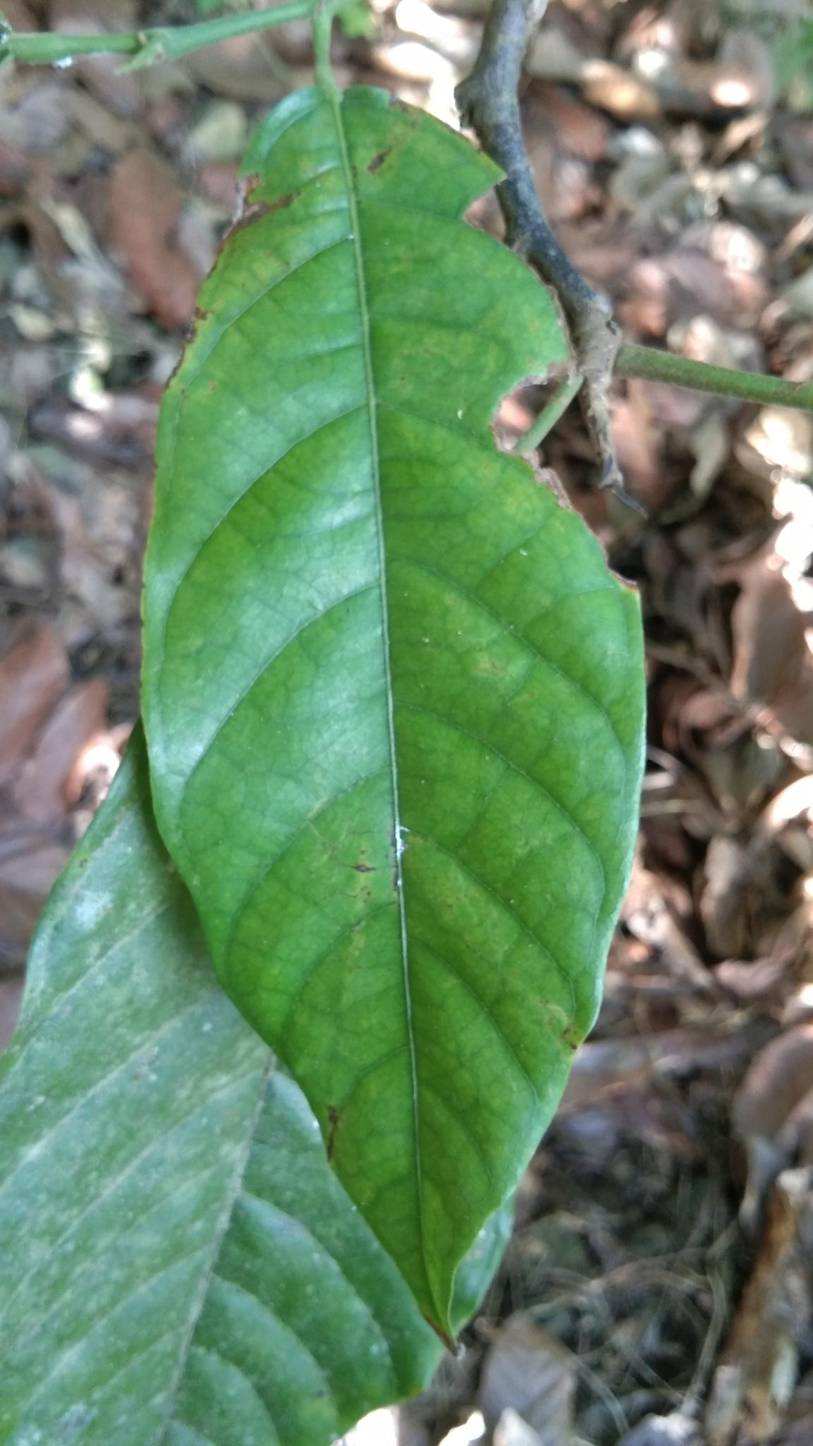Fosforo: (129, 50, 668, 1369)
